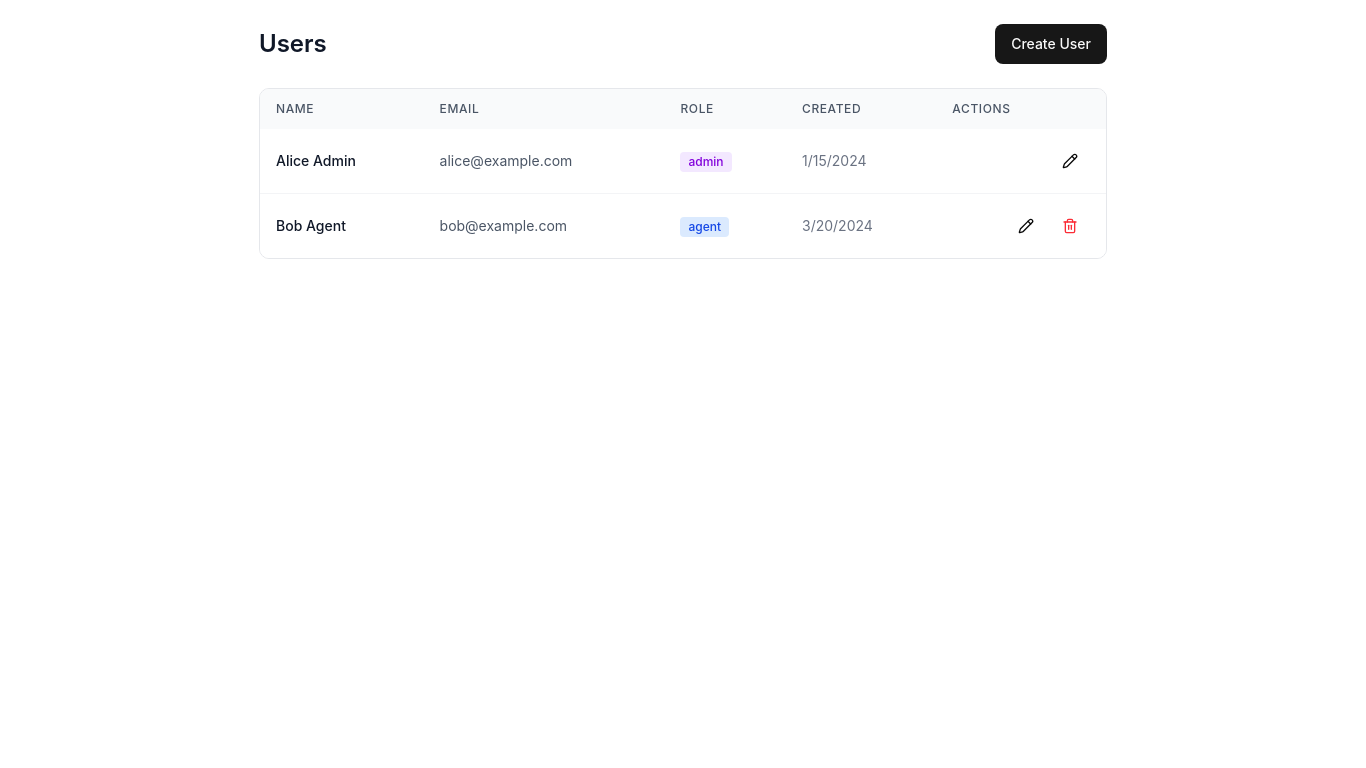
it: Delete User › opens the confirmation modal when the delete button is clicked
This screenshot has width=1366, height=768.
Check: the text "Bob Agent" is shown, box left=260, top=194, right=424, bottom=258
Click the button named "delete bob agent" at (1070, 226), box left=1050, top=206, right=1090, bottom=246
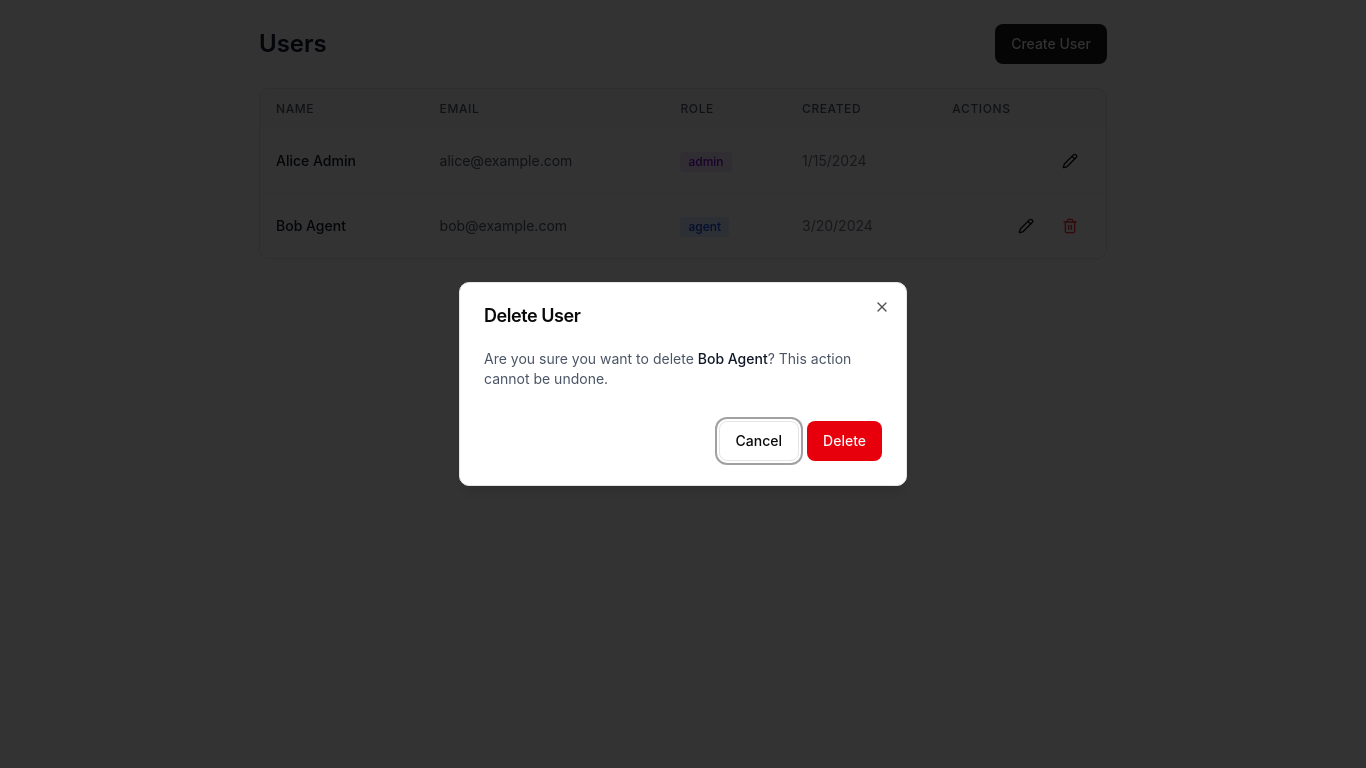
Check: the dialog is shown, box left=459, top=282, right=907, bottom=486
Check: the text "Are you sure you want to delete" is shown, box left=484, top=350, right=694, bottom=367
